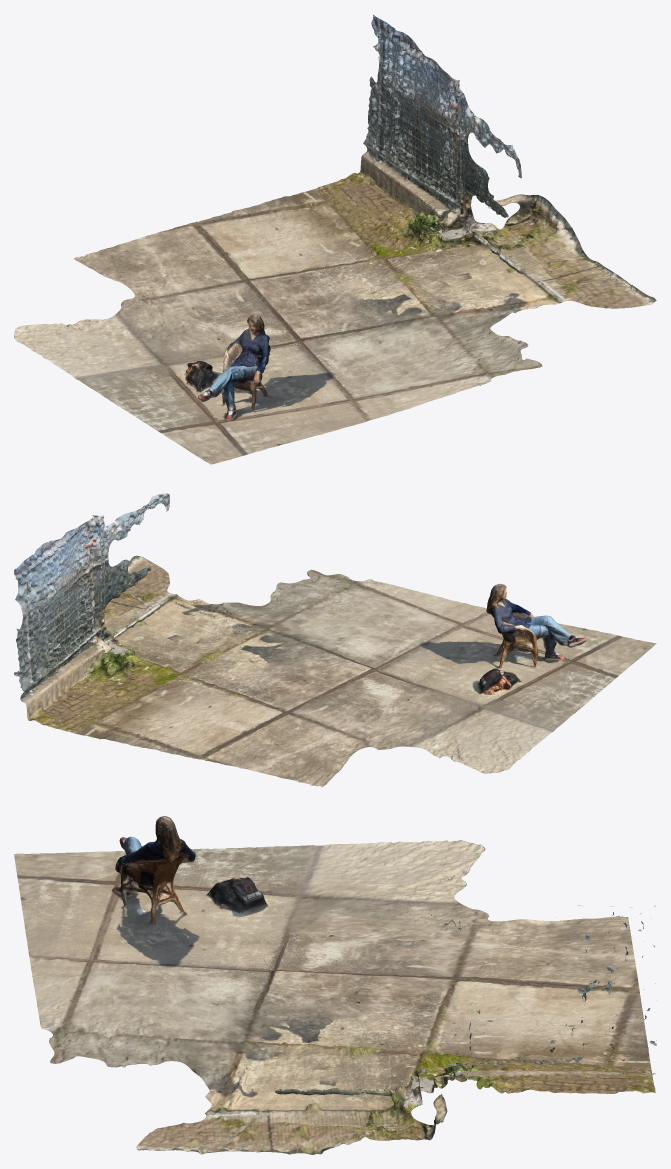
Rendered from S017_ChairOnTheDocks.glb.
The picture shows the model from 3 angles, top to bottom: view 1: azimuth 30°, elevation 25°; view 2: azimuth 150°, elevation 25°; view 3: azimuth 270°, elevation 25°; orthographic projection. The views are drawn at different scales.
Visible parts, largest first — view 1: Mesh_0; view 2: Mesh_0; view 3: Mesh_0.
Part boxes in pixels (x1,y1,x2,y2): Mesh_0: [14, 14, 656, 464]; Mesh_0: [14, 493, 656, 787]; Mesh_0: [14, 816, 656, 1154].
Bounding box in the file's own units: 8.08 × 2.48 × 6.91.
1 material, 1 textured.
